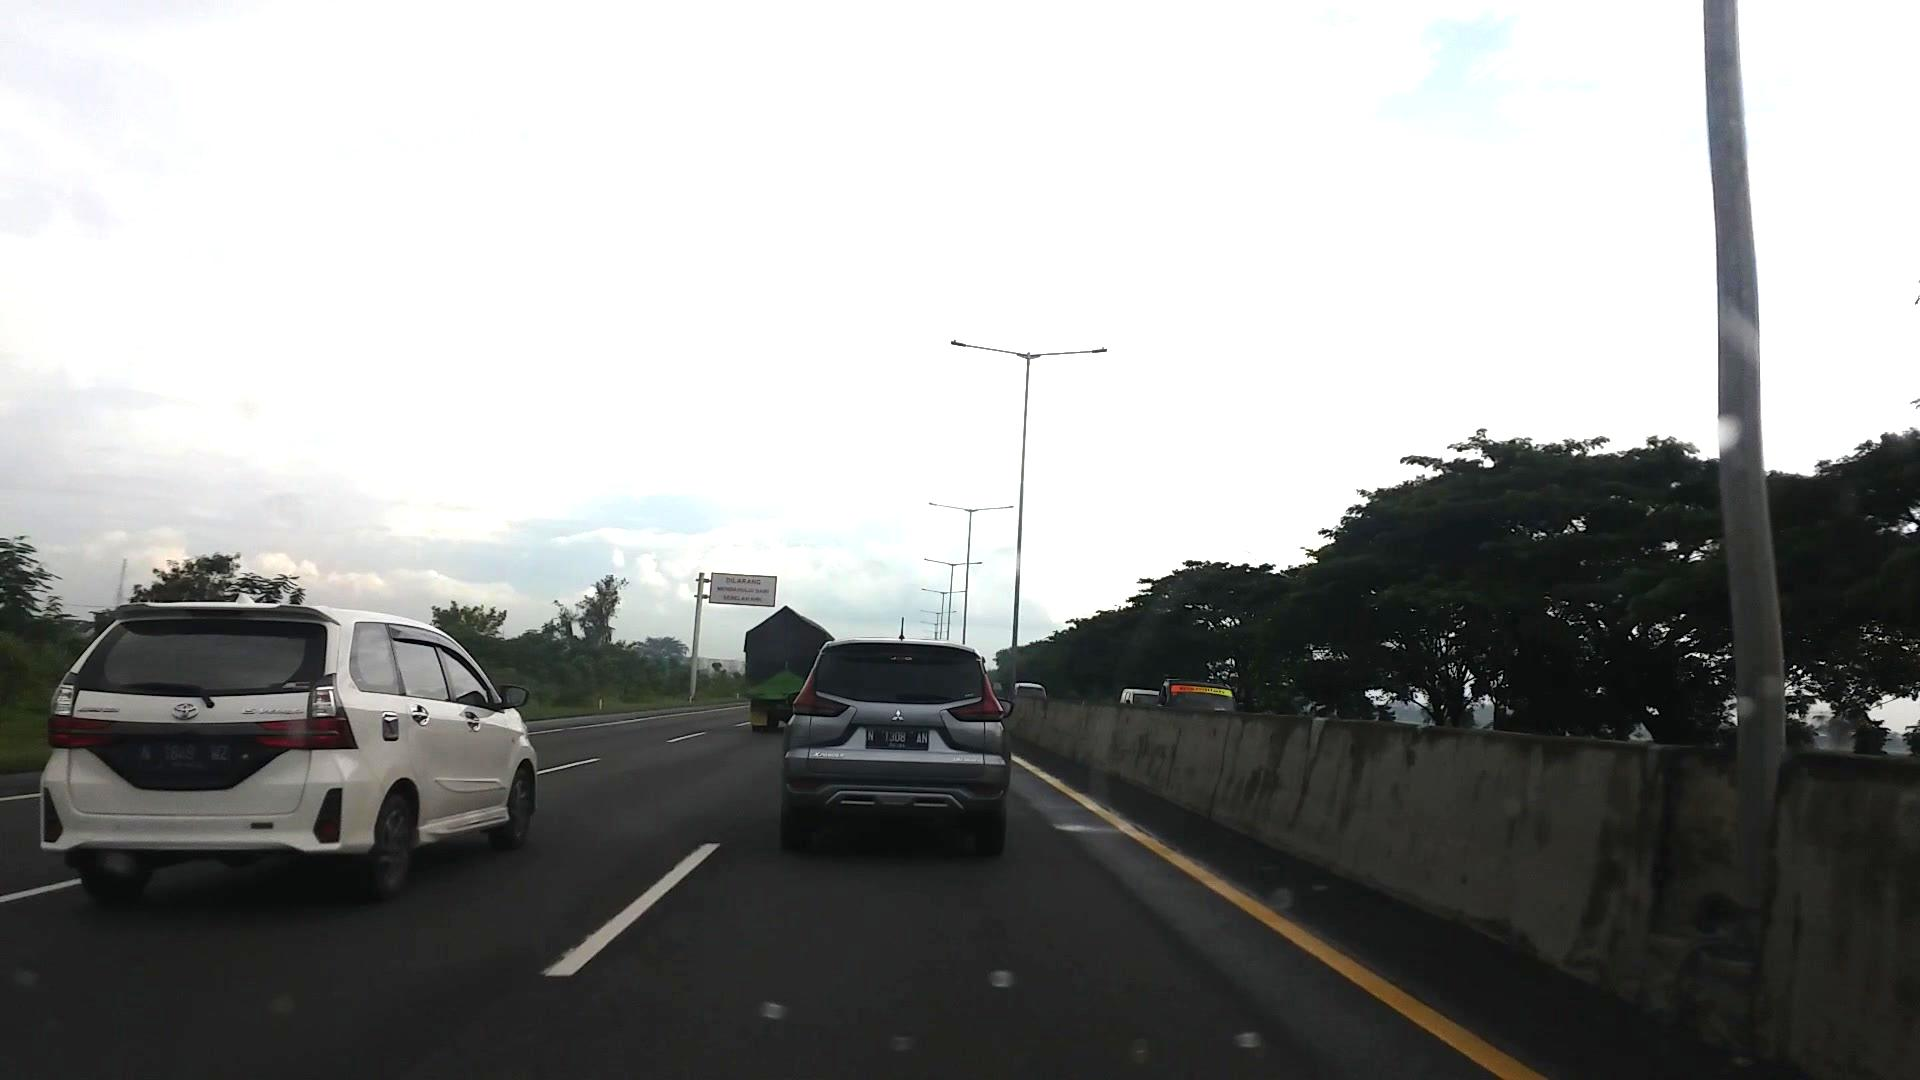plate_positive: (866, 727, 928, 750)
